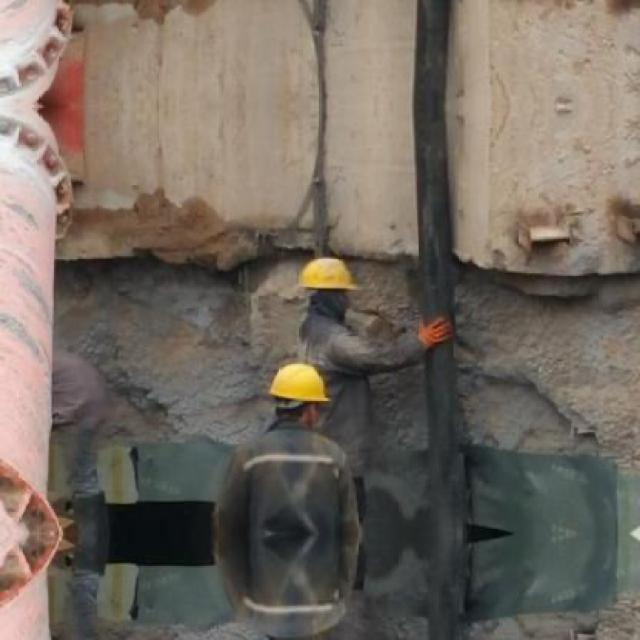con casco: (235, 340, 368, 430), (260, 255, 393, 319)
